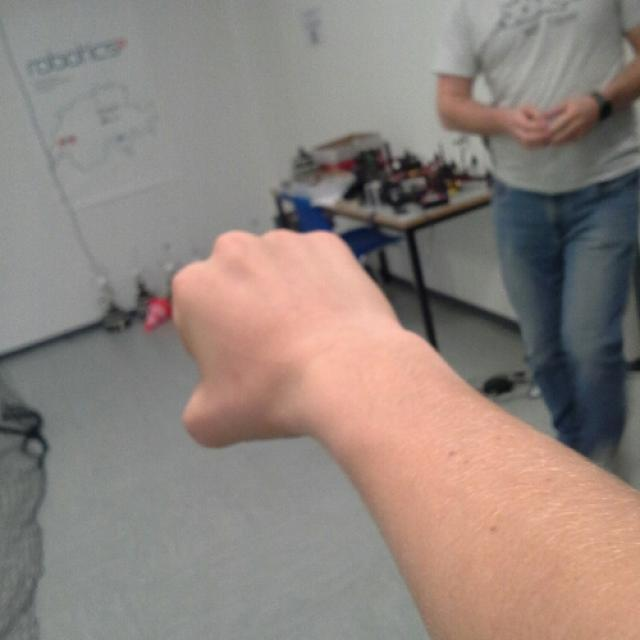rock: (168, 223, 392, 450)
